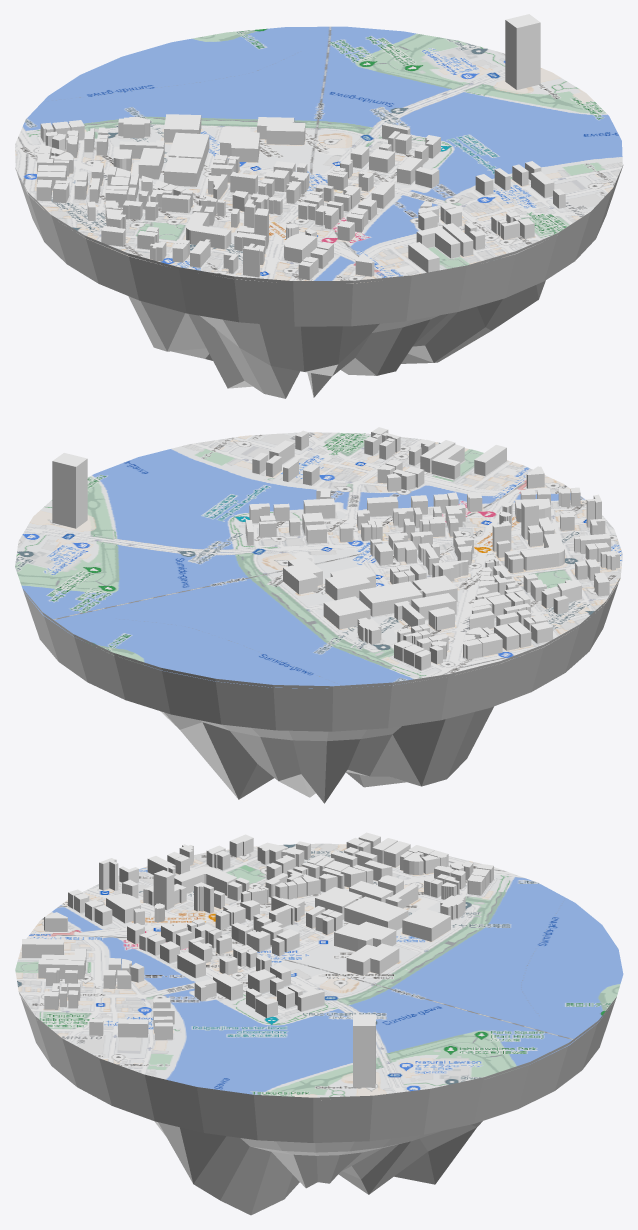
File: generalMap_box5_tokyo3_map.glb
The picture shows the model from 3 angles, top to bottom: view 1: azimuth 30°, elevation 25°; view 2: azimuth 150°, elevation 25°; view 3: azimuth 270°, elevation 25°; orthographic projection.
Visible parts, largest first — view 1: EXPORT_GOOGLE_MAP_WM, Sphere, スカイライトタワー, 405536958, 243800060, 593129373, 654380117, 171311282, 243800061, ブリリア・ザ・タワー東京・八重洲アベニュー, 405537854, 171311249 (+4 smaller); view 2: EXPORT_GOOGLE_MAP_WM, Sphere, スカイライトタワー, 405536958, 593129373, 243800060, 243800061, 654380117, 171311282, 405537854, 171311249, 654380104 (+6 smaller); view 3: EXPORT_GOOGLE_MAP_WM, Sphere, 405536958, スカイライトタワー, 593129373, 243800060, 243800061, 654380117, ヒューリック八丁堀ビル, 171311249, ブリリア・ザ・タワー東京・八重洲アベニュー, HSB鐵砲洲ビル (+6 smaller).
Part boxes in pixels (bbox=[...]): EXPORT_GOOGLE_MAP_WM: bbox=[15, 26, 622, 283]; Sphere: bbox=[15, 165, 623, 398]; スカイライトタワー: bbox=[505, 14, 540, 89]; 405536958: bbox=[164, 132, 209, 186]; 243800060: bbox=[257, 117, 305, 144]; 593129373: bbox=[220, 127, 259, 162]; 654380117: bbox=[186, 212, 231, 249]; 171311282: bbox=[416, 226, 460, 258]; 243800061: bbox=[164, 114, 201, 142]; ブリリア・ザ・タワー東京・八重洲アベニュー: bbox=[284, 233, 317, 262]; 405537854: bbox=[138, 148, 163, 179]; 171311249: bbox=[408, 242, 439, 272]; EXPORT_GOOGLE_MAP_WM: bbox=[15, 432, 622, 688]; Sphere: bbox=[23, 578, 620, 803]; スカイライトタワー: bbox=[52, 453, 87, 528]; 405536958: bbox=[359, 575, 457, 616]; 593129373: bbox=[325, 565, 375, 600]; 243800060: bbox=[283, 557, 322, 594]; 243800061: bbox=[323, 596, 370, 629]; 654380117: bbox=[520, 533, 564, 570]; 171311282: bbox=[431, 444, 464, 479]; 405537854: bbox=[411, 593, 456, 619]; 171311249: bbox=[474, 445, 506, 475]; 654380104: bbox=[432, 560, 468, 581]; EXPORT_GOOGLE_MAP_WM: bbox=[15, 843, 623, 1100]; Sphere: bbox=[19, 992, 616, 1215]; 405536958: bbox=[315, 887, 408, 930]; スカイライトタワー: bbox=[353, 1014, 375, 1087]; 593129373: bbox=[334, 921, 396, 951]; 243800060: bbox=[346, 943, 399, 975]; 243800061: bbox=[402, 908, 450, 941]; 654380117: bbox=[174, 866, 236, 895]; ヒューリック八丁堀ビル: bbox=[153, 870, 174, 909]; 171311249: bbox=[22, 939, 63, 957]; ブリリア・ザ・タワー東京・八重洲アベニュー: bbox=[106, 893, 140, 923]; HSB鐵砲洲ビル: bbox=[38, 959, 84, 979].
Bounding box in the file's own units: 327 × 165 × 327.
Materials: 4 (1 with a texture image).
